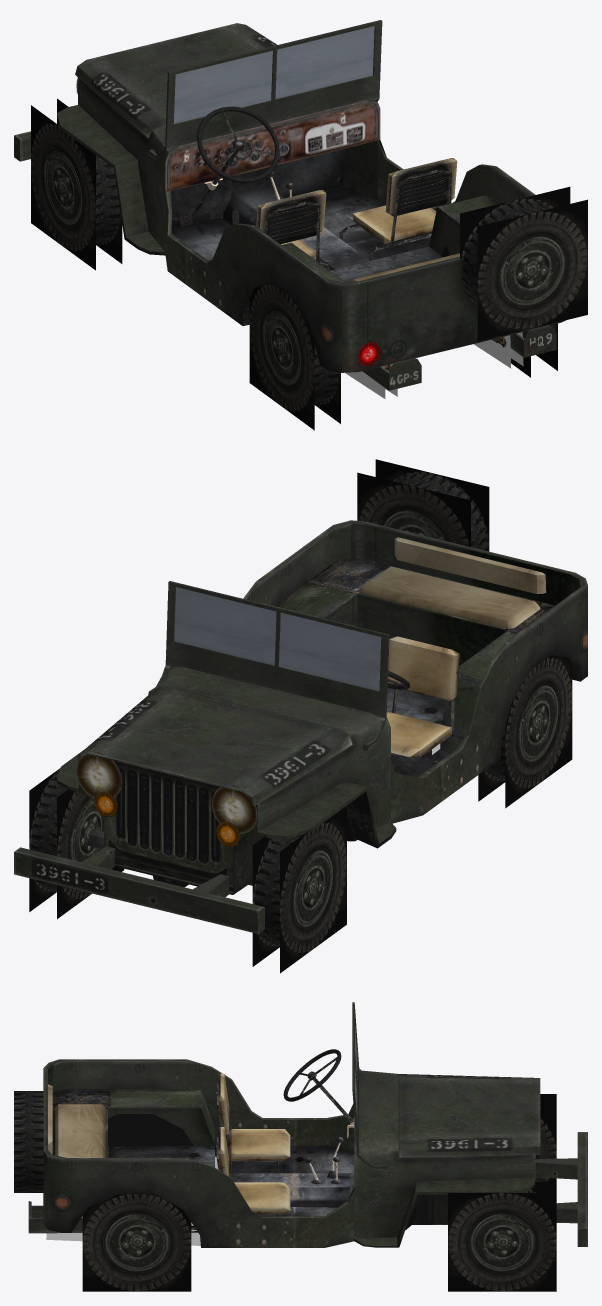
The model's file is Training_SASJeep.fbx.
3 renders of one model, top to bottom at view 1: azimuth 30°, elevation 25°; view 2: azimuth 150°, elevation 25°; view 3: azimuth 270°, elevation 25°, orthographic. The views are drawn at different scales.
Parts seen in each view (by area): view 1: telo, kolo, BODY, WHL00, WHL01, Box09, Loft12, sklo02, sklo01, Line40, Line44, SWHEEL (+1 smaller); view 2: telo, BODY, WHL00, WHL01, kolo, Box02, Box09, WHR00, Line44, sklo01, sklo02, Line40 (+2 smaller); view 3: telo, BODY, WHR00, WHR01, kolo, Line44, Box02, Line43, Loft12, WHL00, SWHEEL, Box09.
Boxes of the visible parts, box(x1,y1,x2,y2) form: telo: box(78, 77, 565, 372); kolo: box(460, 186, 587, 341); BODY: box(75, 23, 556, 390); WHL00: box(31, 98, 122, 270); WHL01: box(249, 283, 340, 430); Box09: box(148, 20, 382, 158); Loft12: box(339, 158, 457, 260); sklo02: box(275, 26, 374, 99); sklo01: box(173, 50, 272, 123); Line40: box(57, 105, 165, 255); Line44: box(208, 190, 329, 269); SWHEEL: box(187, 106, 279, 225); telo: box(79, 520, 587, 894); BODY: box(76, 686, 353, 805); WHL00: box(252, 806, 346, 973); WHL01: box(478, 655, 572, 808); kolo: box(357, 459, 489, 551); Box02: box(14, 846, 264, 933); Box09: box(148, 581, 389, 750); WHR00: box(29, 768, 124, 918); Line44: box(386, 636, 464, 762); sklo01: box(279, 612, 381, 690); sklo02: box(174, 587, 276, 665); Line40: box(257, 781, 396, 848); telo: box(43, 1059, 535, 1247); BODY: box(28, 1074, 540, 1245); WHR00: box(448, 1182, 556, 1291); WHR01: box(82, 1194, 191, 1291); kolo: box(14, 1091, 43, 1192); Line44: box(216, 1073, 290, 1173); Box02: box(535, 1132, 587, 1246); Line43: box(354, 1177, 535, 1247); Loft12: box(216, 1127, 290, 1216); WHL00: box(535, 1094, 556, 1181); SWHEEL: box(283, 1049, 353, 1123); Box09: box(352, 1002, 387, 1170).
Size of what is drawn, in the model's own units: 148 by 136 by 359.
